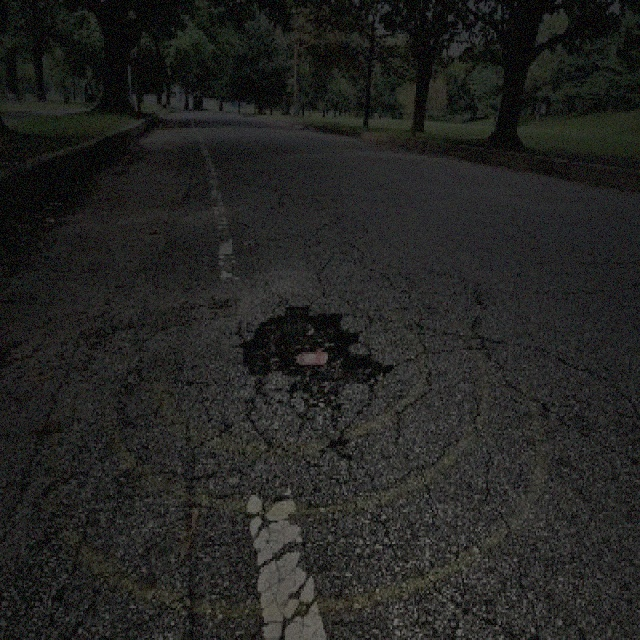pothole: (234, 300, 392, 394)
